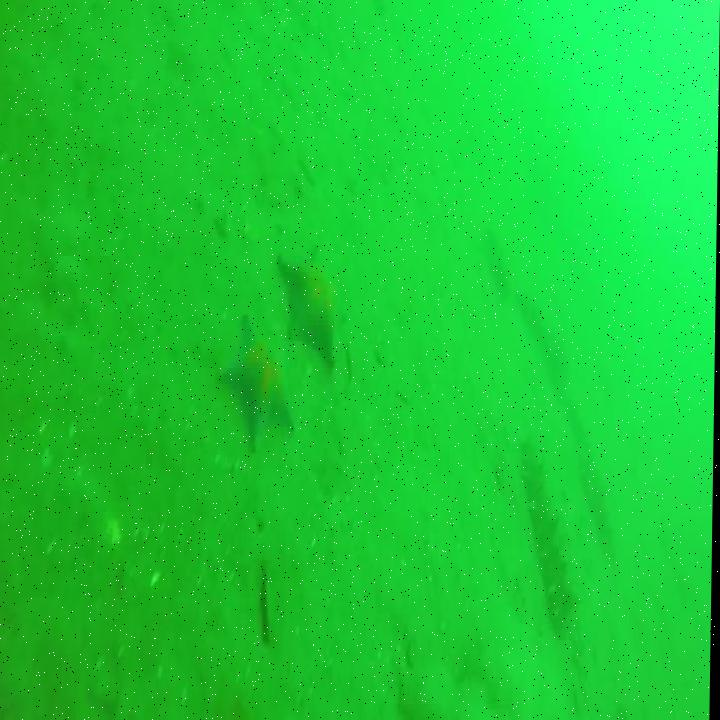holothurian: (515, 305, 623, 564), (523, 441, 585, 627)
starfish: (219, 315, 298, 446), (275, 245, 350, 368)
